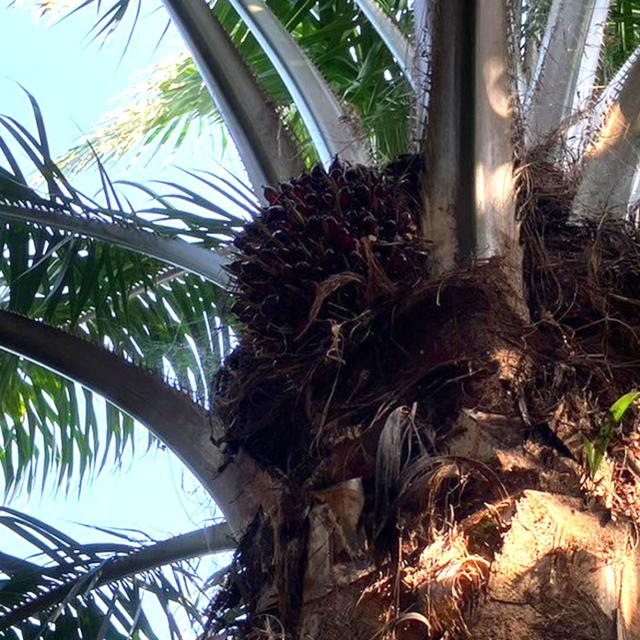ripe: (215, 150, 425, 344)
